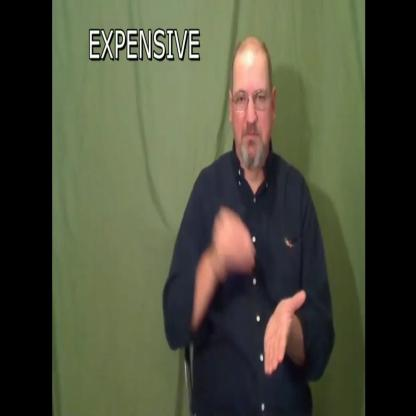Expensive: (163, 32, 337, 416)
